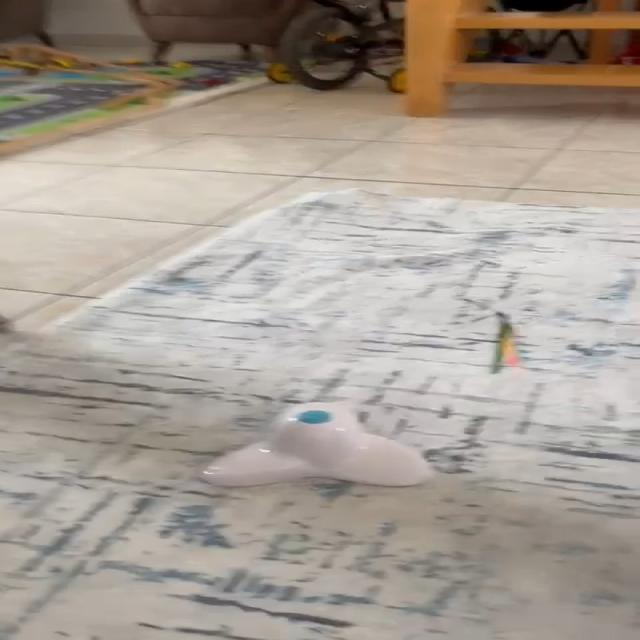authorized: (197, 398, 435, 488)
